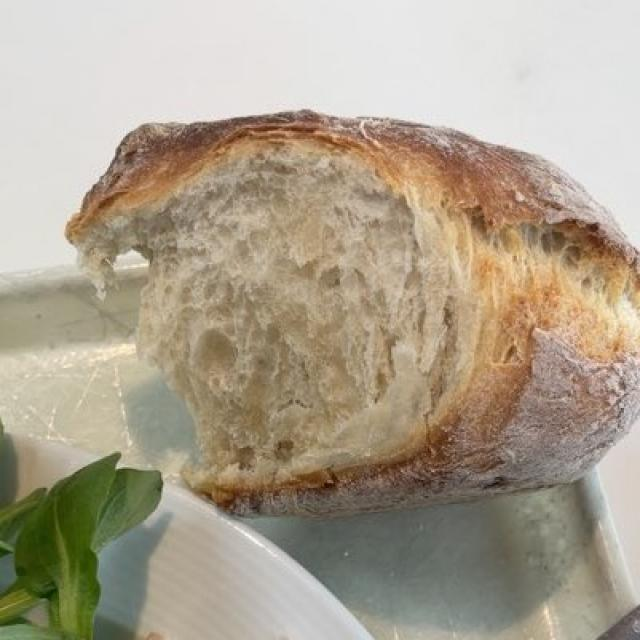bread: (73, 116, 626, 505)
